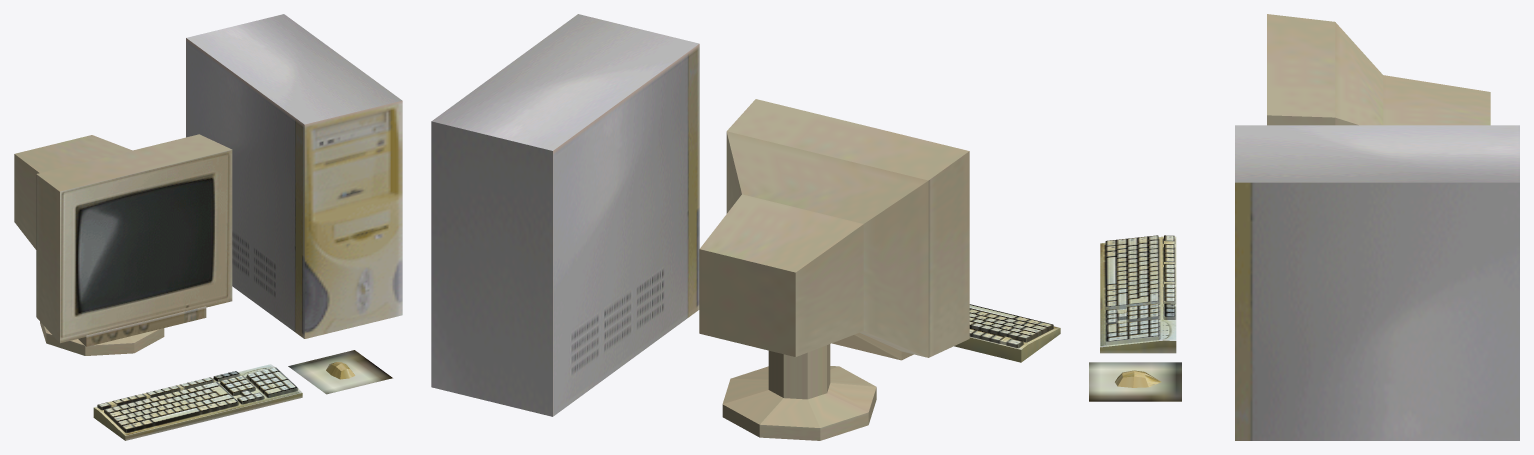
Rendered from pc_in_ps1_style____ps1.glb.
3 renders of one model, left to right at view 1: azimuth 30°, elevation 25°; view 2: azimuth 150°, elevation 25°; view 3: azimuth 270°, elevation 25°, orthographic. The views are drawn at different scales.
Parts seen in each view (by area): view 1: System unit, Monitor, keyboard, palace; view 2: System unit, Monitor, keyboard; view 3: System unit, Monitor, keyboard, palace, mouse.
Part boxes in pixels (left/top/right/bottom): System unit: left=186, top=14, right=402, bottom=338; Monitor: left=14, top=134, right=232, bottom=355; keyboard: left=93, top=364, right=302, bottom=440; palace: left=288, top=350, right=392, bottom=394; System unit: left=431, top=14, right=699, bottom=416; Monitor: left=699, top=99, right=969, bottom=440; keyboard: left=954, top=304, right=1060, bottom=362; System unit: left=1235, top=125, right=1519, bottom=440; Monitor: left=1267, top=14, right=1490, bottom=125; keyboard: left=1100, top=235, right=1176, bottom=353; palace: left=1089, top=362, right=1181, bottom=401; mouse: left=1115, top=370, right=1161, bottom=387.
Size of the model in its own units: 1.29 by 0.804 by 1.2.
Materials: 7 (7 with a texture image).
